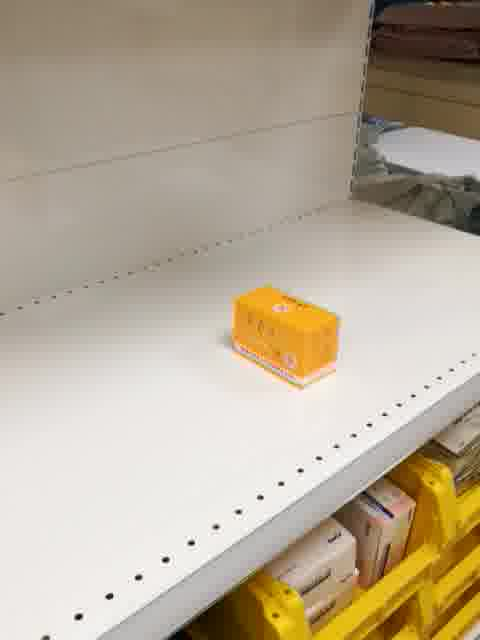jasminetea: (231, 285, 341, 391)
